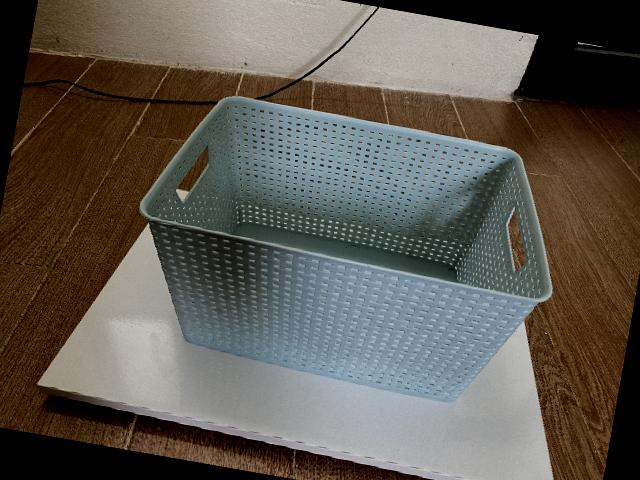cart: (138, 96, 551, 404)
